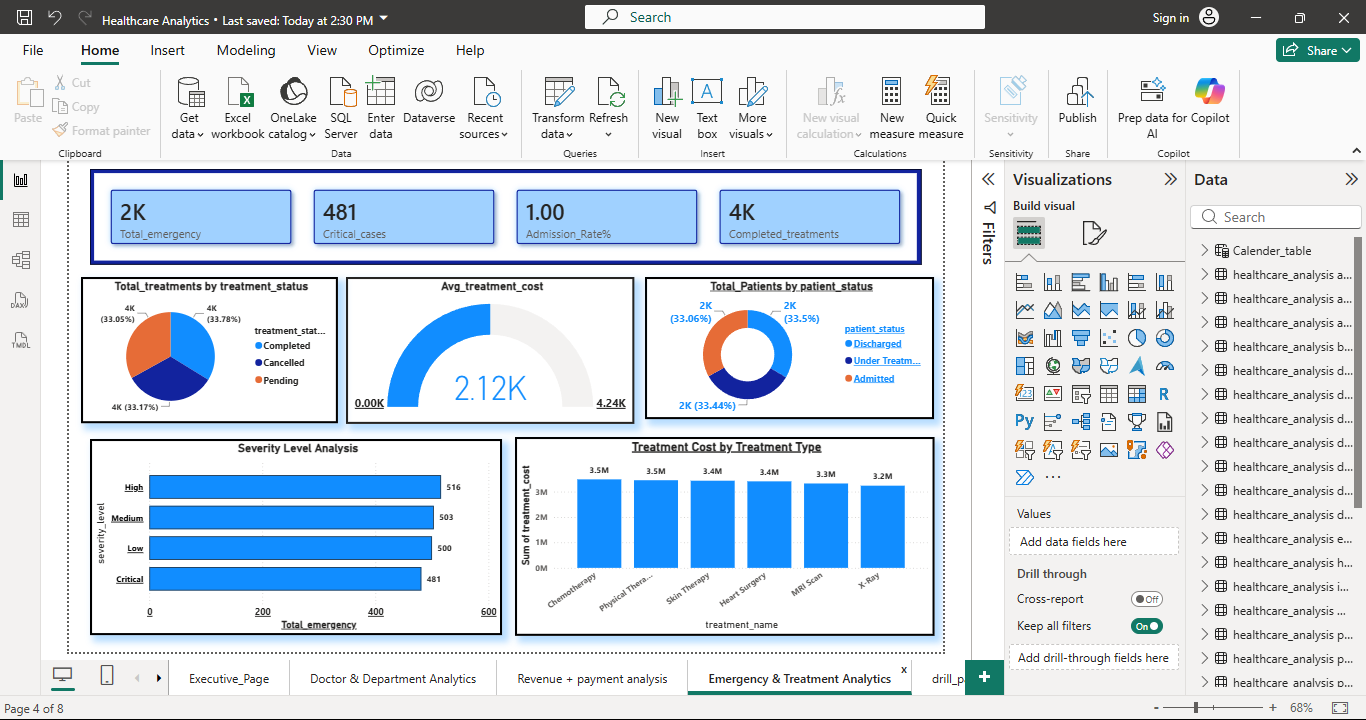

The dashboard page shown, as its layout file describes it:
{"tool":"powerbi","page":{"name":"Emergency & Treatment Analytics","canvas":[1280,720],"ordinal":3},"visuals":[{"type":"barChart","title":"Severity Level Analysis","fields":{"Category":["healthcare_analysis emergency_cases.severity_level"],"Y":["Measure_box3.Total_emergency"]},"box":[30.8,408.4,603.3,287.1],"z":0},{"type":"clusteredColumnChart","title":"Treatment Cost by Treatment Type","fields":{"Category":["healthcare_analysis treatments.treatment_name"],"Y":["Sum(healthcare_analysis treatments.treatment_cost)"]},"box":[652.8,405,613.5,290.5],"z":1000},{"type":"pieChart","fields":{"Category":["healthcare_analysis treatments.treatment_status"],"Y":["Measure_box3.Total_treatments"]},"box":[17.1,170.9,376,213.6],"z":2000},{"type":"donutChart","fields":{"Y":["measure_box.Total_Patients"],"Category":["healthcare_analysis patients_clean.patient_status"]},"box":[843.2,171,423.3,208.3],"z":3000},{"type":"cardVisual","fields":{"Data":["Measure_box3.Total_emergency","Measure_box3.Critical_cases","Measure_box3.Admission_Rate%","Measure_box3.Completed_treatments"]},"box":[30.8,13.7,1216.8,140.1],"z":4000},{"type":"gauge","fields":{"Y":["Sum(healthcare_analysis avg_treatment_cost.avg_treatment_cost)"]},"box":[405,170.9,422.1,215.3],"z":5000}]}

Visuals, with their boxes on the page's 1280x720 design canvas (x1, y1, x2, y2). These are canvas units, not pixel positions in the 1366x720 screenshot, which may show the page scaled, cropped or inside an application window:
"Severity Level Analysis" barChart: bbox=(31, 408, 634, 696)
"Treatment Cost by Treatment Type" clusteredColumnChart: bbox=(653, 405, 1266, 696)
pieChart - healthcare_analysis treatments.treatment_status x Measure_box3.Total_treatments: bbox=(17, 171, 393, 384)
donutChart - measure_box.Total_Patients x healthcare_analysis patients_clean.patient_status: bbox=(843, 171, 1266, 379)
cardVisual - Measure_box3.Total_emergency x Measure_box3.Critical_cases: bbox=(31, 14, 1248, 154)
gauge - Sum(healthcare_analysis avg_treatment_cost.avg_treatment_cost): bbox=(405, 171, 827, 386)
